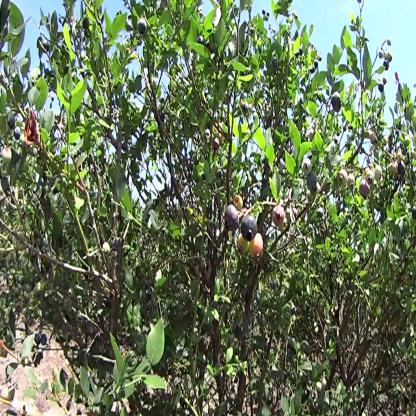intermediate: (272, 205, 286, 228), (249, 235, 263, 258), (340, 170, 356, 187), (388, 162, 399, 176), (215, 136, 221, 151), (316, 381, 323, 393), (387, 52, 393, 63)
mature: (225, 202, 241, 232), (243, 216, 259, 242), (359, 182, 370, 201), (308, 173, 318, 192), (333, 94, 342, 113), (137, 18, 147, 35), (36, 333, 47, 345), (8, 115, 16, 129), (15, 127, 22, 141), (318, 207, 325, 220), (385, 136, 389, 148), (294, 208, 298, 218)
young: (238, 234, 248, 256), (367, 170, 382, 183), (303, 157, 312, 176), (2, 148, 12, 165), (235, 194, 244, 210), (103, 242, 112, 258)
